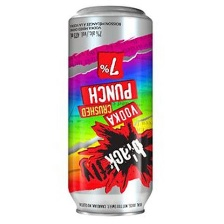can: (61, 1, 155, 222)
